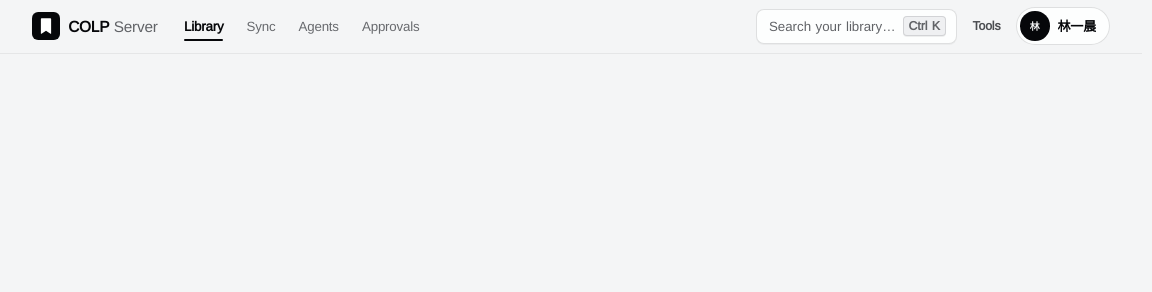
Scenario: TopNav session chrome › shows Library, Sync, Agents and Approvals and a warning Sign out when signed in
Click the button with test id "account-trigger" at [1063, 26], box x1=1016 y1=7 x2=1110 y2=46
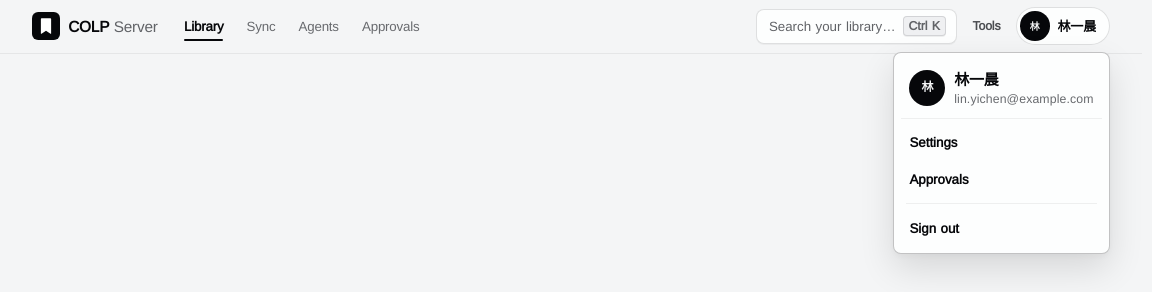
Expected: the navigation bar with id "account-dropdown" shows "lin.yichen@example.com", x1=954 y1=91 x2=1094 y2=106
